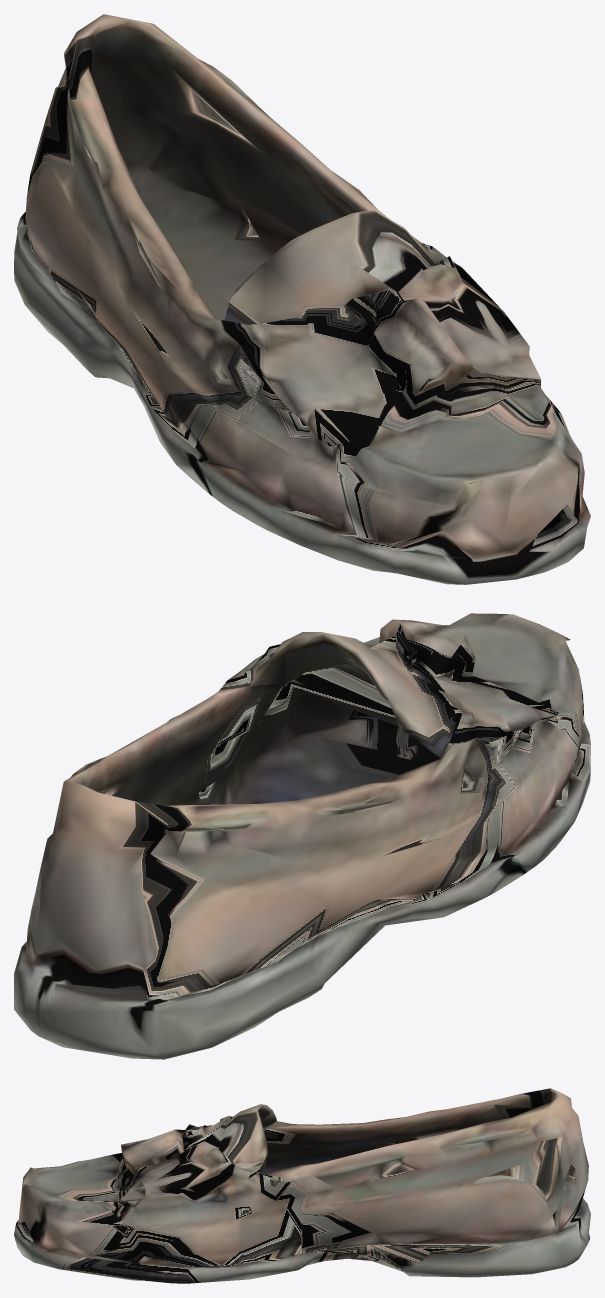
Rendered from gso_mens_tremont_kiltie_tassel_loafer_in_black_amaretto_ft0i9ojsa6o.glb.
The picture shows the model from 3 angles, top to bottom: view 1: azimuth 30°, elevation 25°; view 2: azimuth 150°, elevation 25°; view 3: azimuth 270°, elevation 25°; orthographic projection. The views are drawn at different scales.
Parts seen in each view (by area): view 1: z-up-to-y-up; view 2: z-up-to-y-up; view 3: z-up-to-y-up.
Part boxes in pixels (x1,y1,x2,y2): z-up-to-y-up: [14, 14, 590, 584]; z-up-to-y-up: [14, 613, 590, 1059]; z-up-to-y-up: [14, 1088, 590, 1283].
Size of the model in its own units: 0.1044 by 0.0924 by 0.2938.
1 material, 1 textured.
